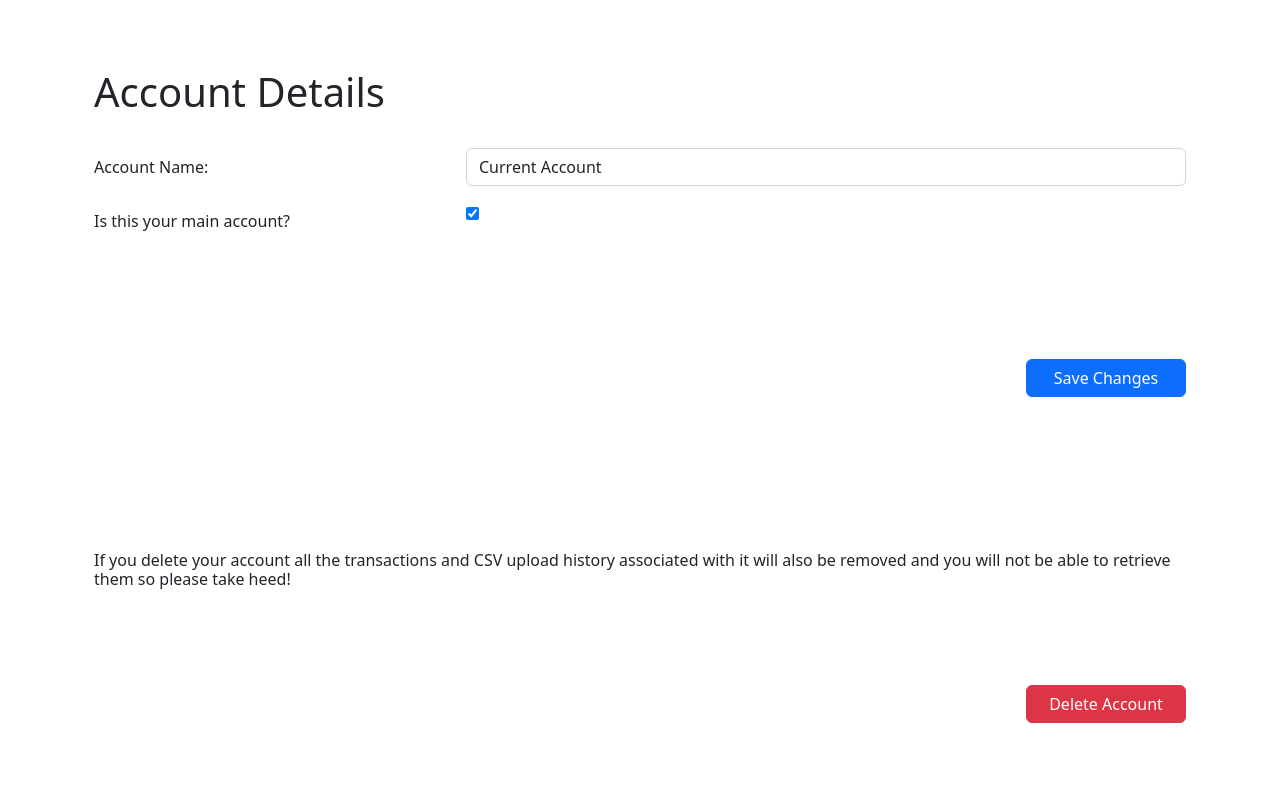
Test: a failed delete response keeps the user on the page and shows an error
Expected: the field showing "Current Account" is shown, x1=466 y1=148 x2=1186 y2=186
Click the button "Delete Account" at (1106, 704), box x1=1026 y1=685 x2=1186 y2=723
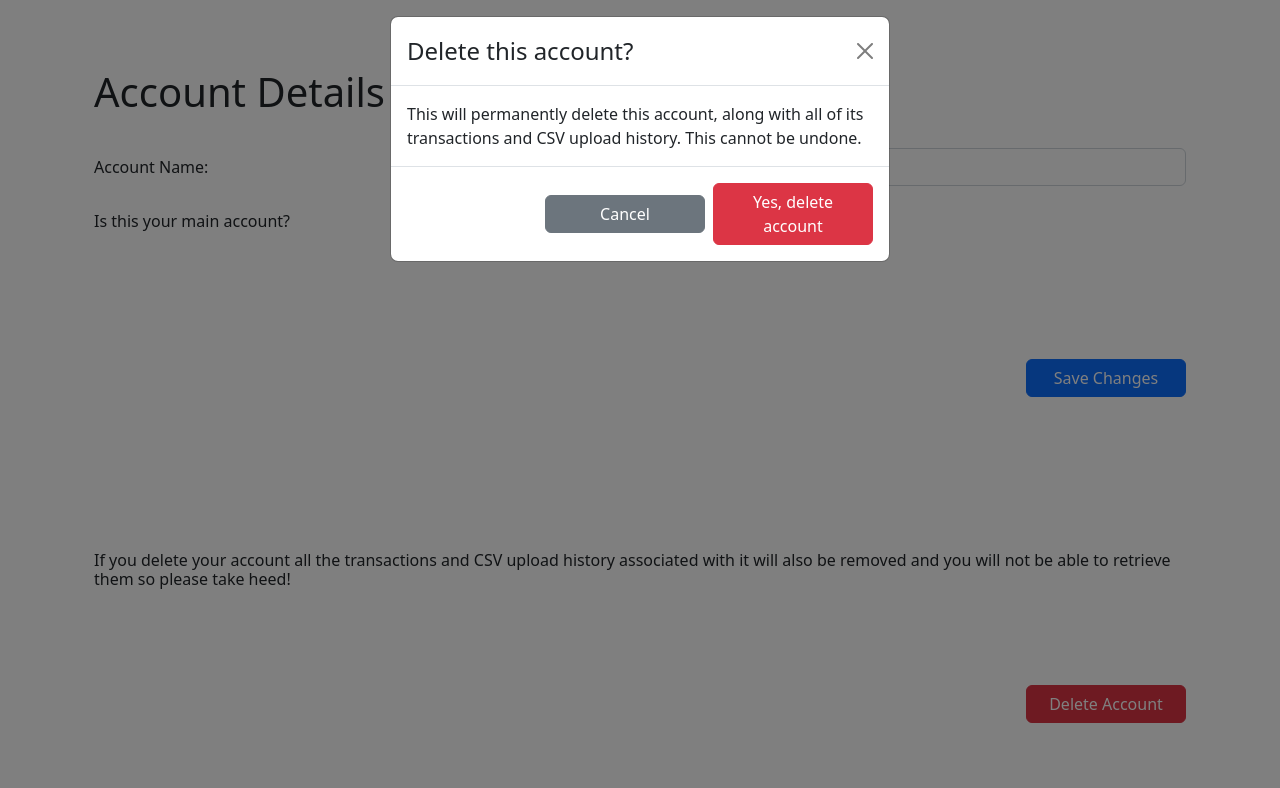
Click the button "Yes, delete account" at (793, 214), box x1=713 y1=183 x2=873 y2=245
(page scrolled)
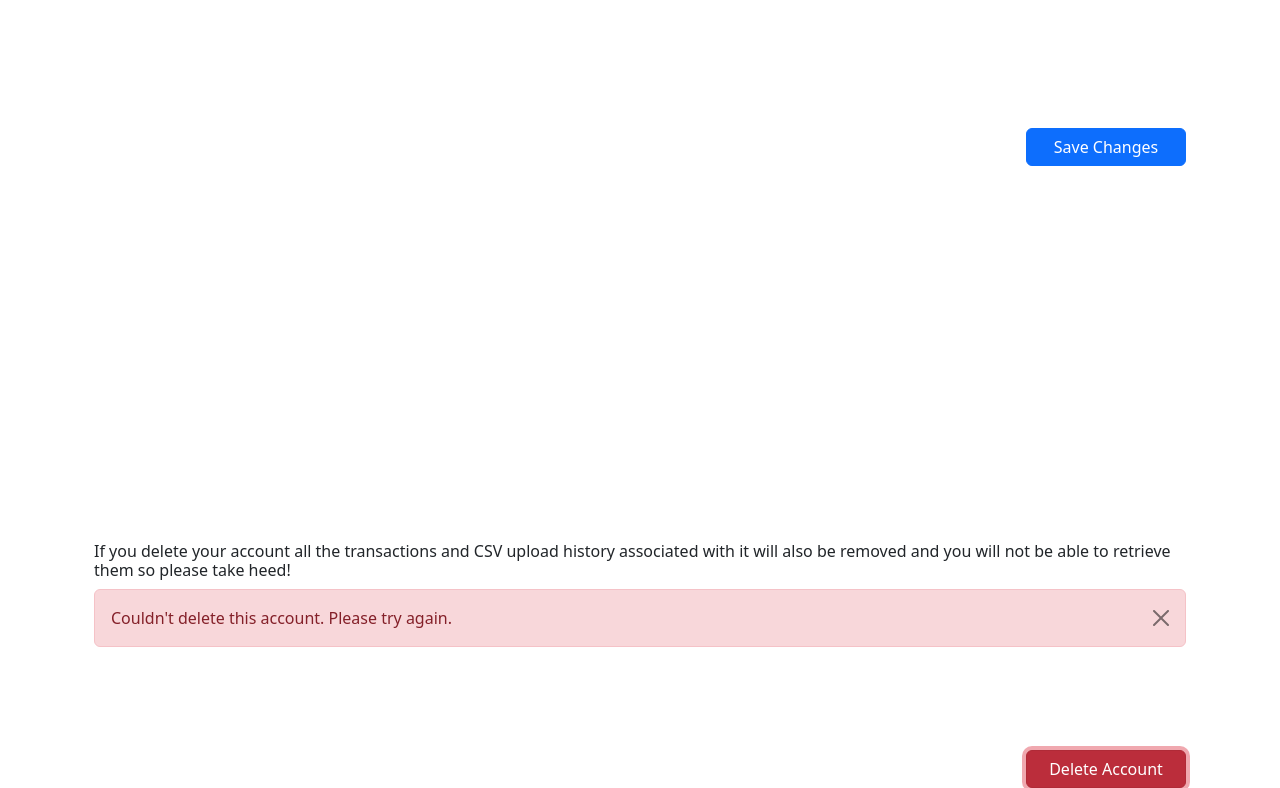
Expected: the text "Delete this account?" is not shown
Now the text "Couldn't delete this account. Please try again." is shown, box x1=94 y1=589 x2=1186 y2=647
